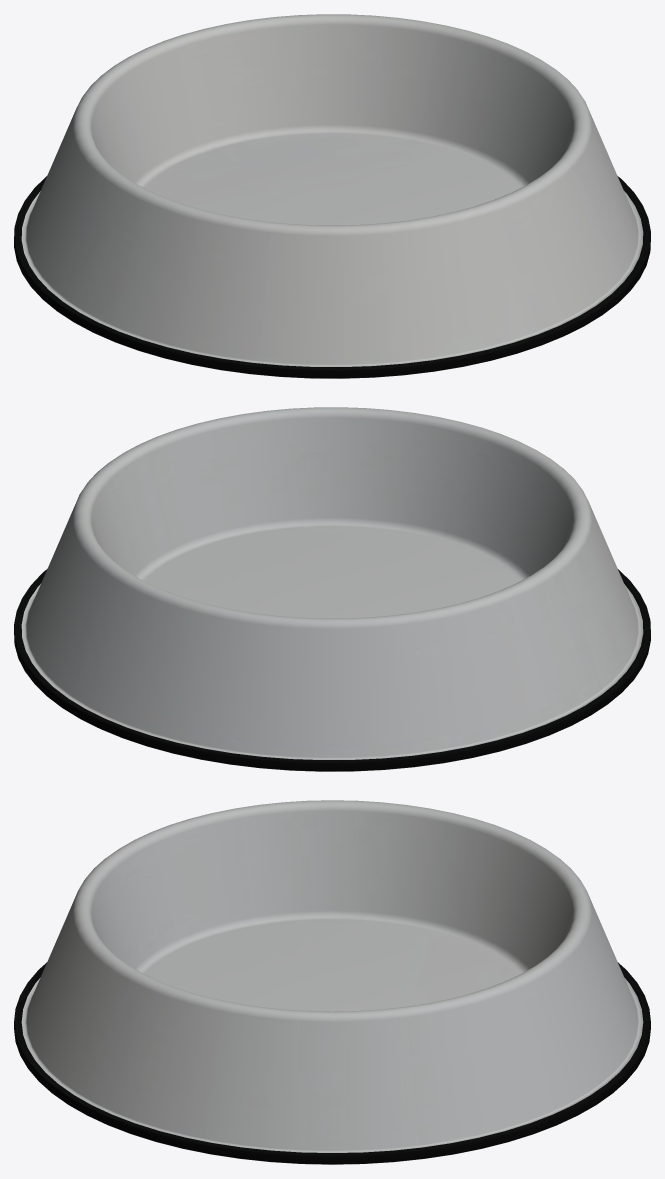
The model's file is dog_bowl.glb.
The picture shows the model from 3 angles, top to bottom: view 1: azimuth 30°, elevation 25°; view 2: azimuth 150°, elevation 25°; view 3: azimuth 270°, elevation 25°; orthographic projection.
Visible parts, largest first — view 1: DogBowl01_DogBowl01_0; view 2: DogBowl01_DogBowl01_0; view 3: DogBowl01_DogBowl01_0.
Part boxes in pixels (x1,y1,x2,y2): DogBowl01_DogBowl01_0: [14, 14, 650, 378]; DogBowl01_DogBowl01_0: [14, 407, 650, 771]; DogBowl01_DogBowl01_0: [14, 800, 650, 1164].
Bounding box in the file's own units: 2.34 × 0.5031 × 2.34.
Materials: 1 (1 with a texture image).
